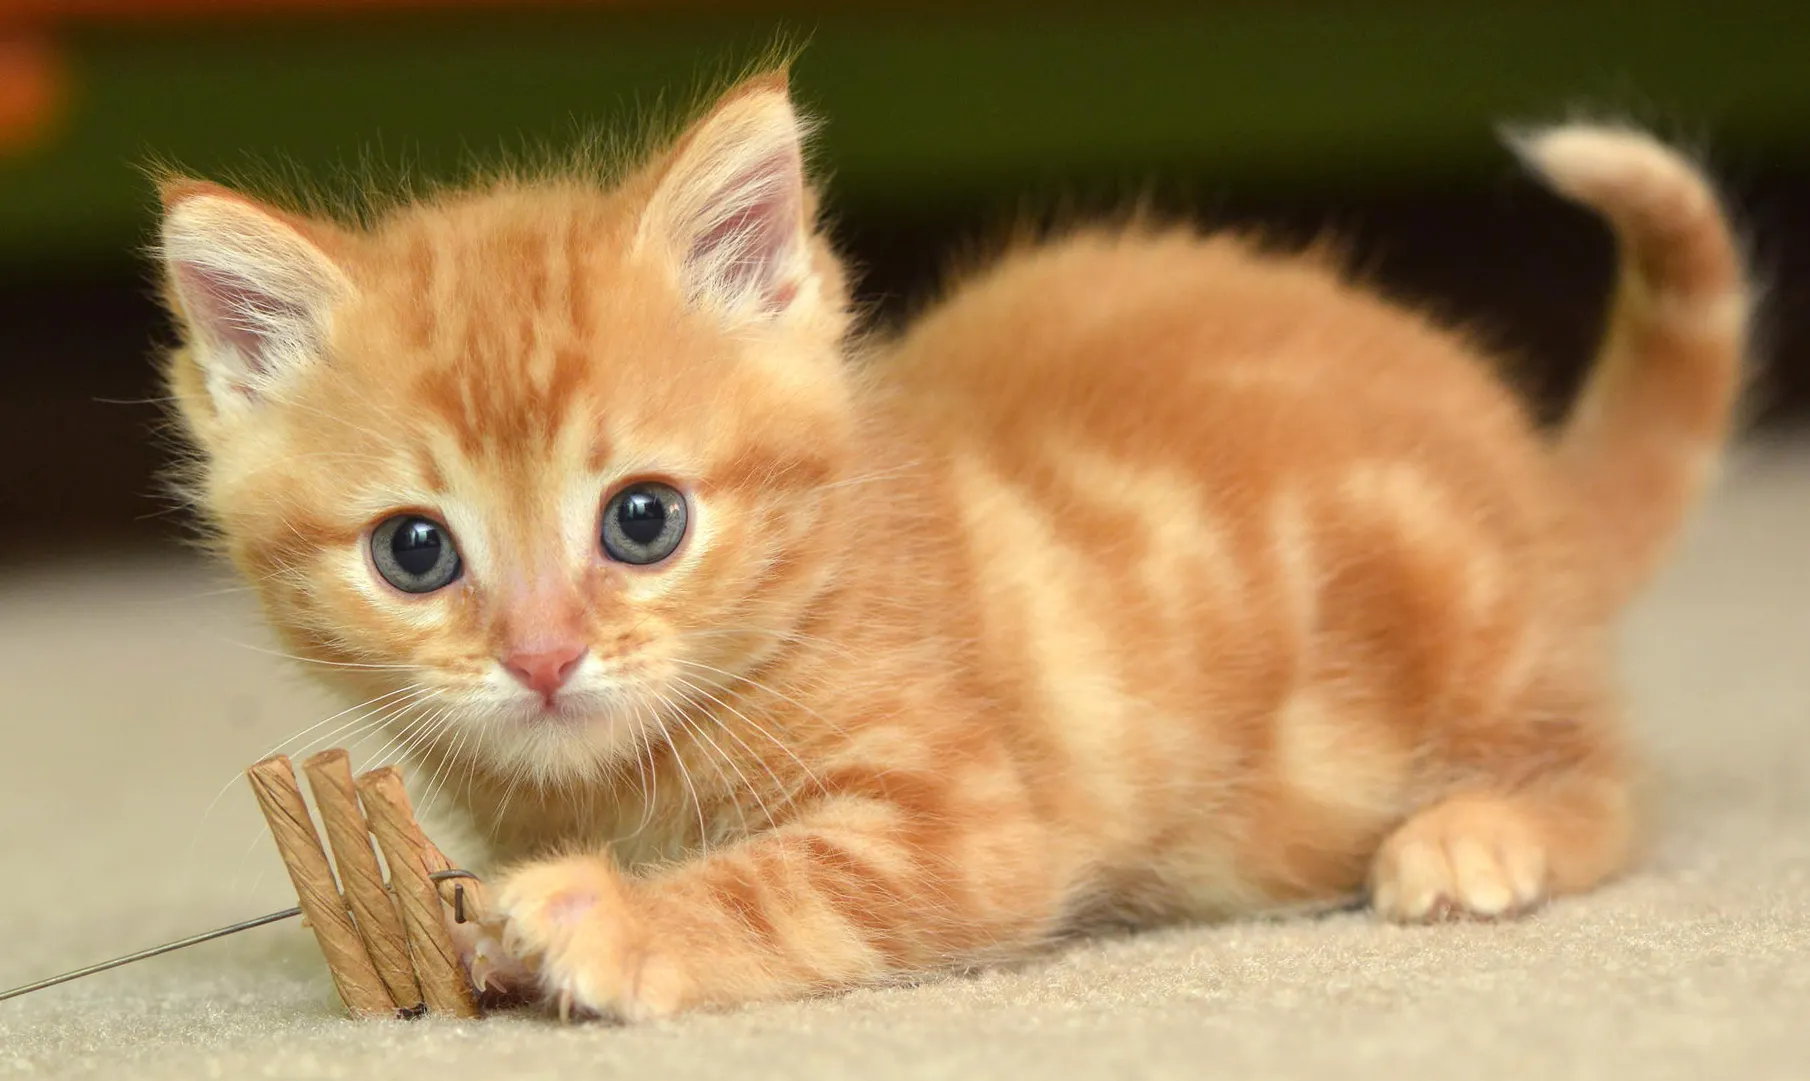cat: (120, 30, 1791, 1033)
